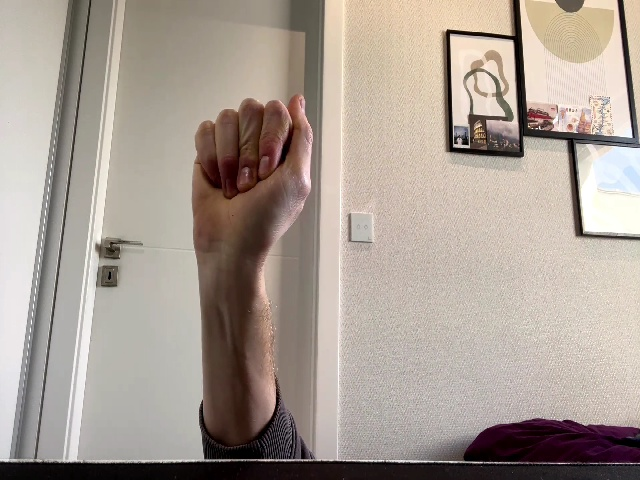A: (192, 94, 313, 252)
